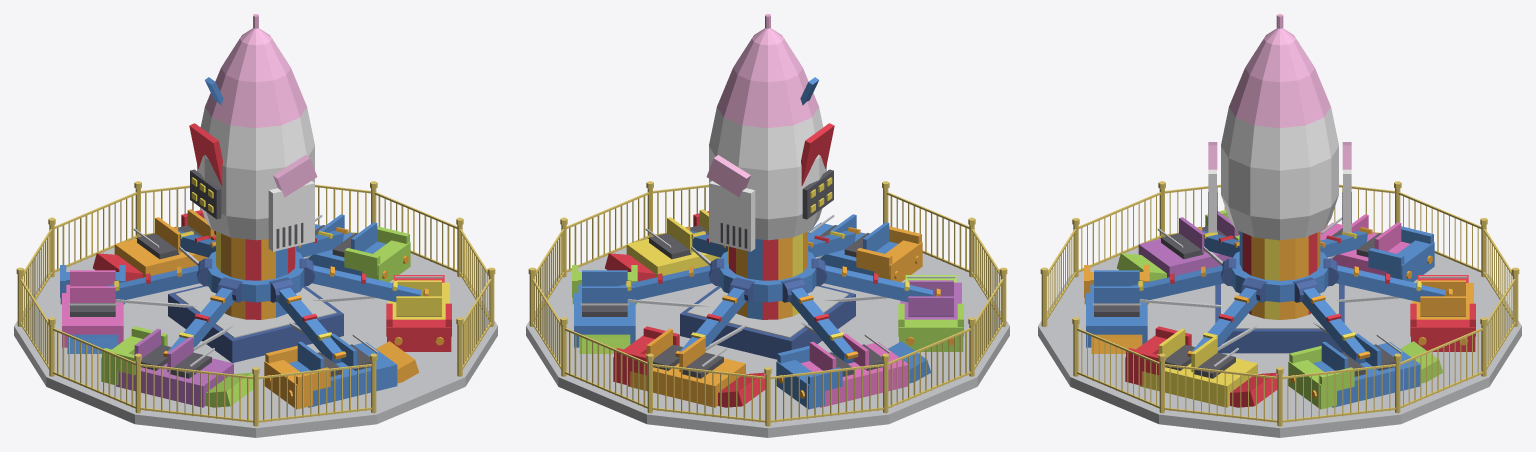
3 renders of one model, left to right at view 1: azimuth 30°, elevation 25°; view 2: azimuth 150°, elevation 25°; view 3: azimuth 270°, elevation 25°, orthographic.
Parts seen in each view (by area): view 1: base, rotor, hang3, hang4, hang2, hang5, hang0, hang1, tilt5, tilt2, tilt4, tilt3 (+2 smaller); view 2: base, rotor, hang1, hang2, hang0, hang4, hang3, hang5, tilt3, tilt0, tilt2, tilt1 (+2 smaller); view 3: base, rotor, hang5, hang0, hang4, hang2, hang1, hang3, tilt1, tilt4, tilt0, tilt5 (+2 smaller).
Part boxes in pixels (bbox=[...]): base: bbox=[14, 181, 497, 437]; rotor: bbox=[189, 14, 317, 319]; hang3: bbox=[101, 326, 253, 407]; hang4: bbox=[264, 333, 418, 409]; hang2: bbox=[60, 265, 125, 353]; hang5: bbox=[386, 275, 451, 351]; hang0: bbox=[308, 214, 410, 281]; hang1: bbox=[93, 209, 215, 281]; tilt5: bbox=[299, 258, 428, 302]; tilt2: bbox=[106, 258, 212, 307]; tilt4: bbox=[269, 277, 346, 363]; tilt3: bbox=[163, 277, 242, 357]; base: bbox=[526, 181, 1009, 437]; rotor: bbox=[706, 14, 834, 319]; hang1: bbox=[613, 326, 765, 407]; hang2: bbox=[776, 333, 930, 409]; hang0: bbox=[572, 265, 637, 353]; hang4: bbox=[808, 214, 922, 281]; hang3: bbox=[898, 275, 963, 351]; hang5: bbox=[605, 209, 720, 281]; tilt3: bbox=[811, 258, 940, 302]; tilt0: bbox=[618, 258, 724, 307]; tilt2: bbox=[781, 277, 858, 363]; tilt1: bbox=[675, 277, 754, 357]; base: bbox=[1038, 181, 1521, 437]; rotor: bbox=[1208, 14, 1351, 319]; hang5: bbox=[1125, 326, 1277, 407]; hang0: bbox=[1288, 333, 1442, 409]; hang4: bbox=[1084, 265, 1149, 353]; hang2: bbox=[1320, 214, 1434, 281]; hang1: bbox=[1410, 275, 1475, 351]; hang3: bbox=[1117, 210, 1239, 281]; tilt1: bbox=[1323, 258, 1452, 302]; tilt4: bbox=[1130, 258, 1236, 307]; tilt0: bbox=[1293, 277, 1370, 363]; tilt5: bbox=[1187, 277, 1266, 357].
Bounding box in the file's own units: 9 × 6.57 × 9.
